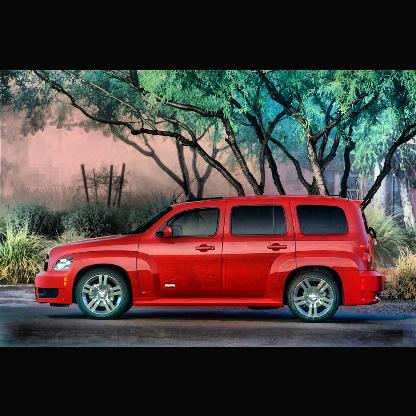Chevrolet HHR SS 2010: (33, 192, 388, 327)
